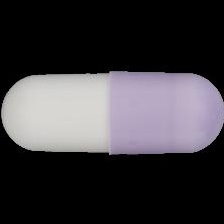53808-1040: (0, 0, 224, 224)
